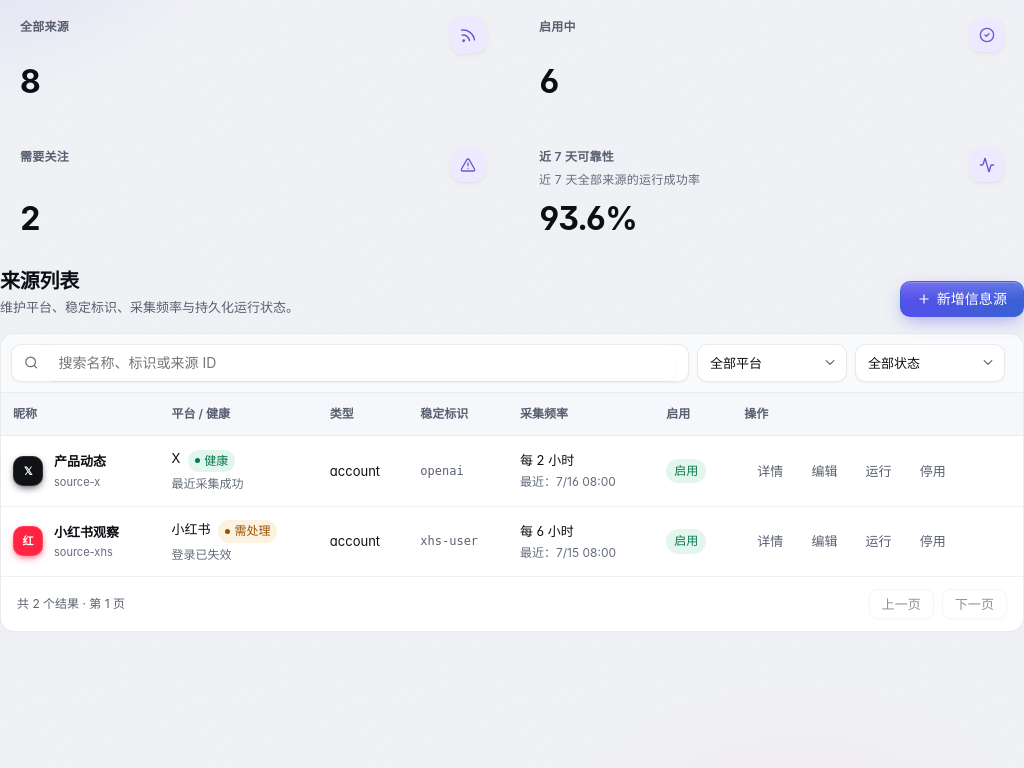
Test case: SourceManagementModule › edits mutable fields only and displays version effectiveness and initial-fetch result
Expected: the text "产品动态" is shown, [54, 451, 106, 472]
Click the button with aria-label "编辑 产品动态" at {"x": 824, "y": 471}, box [798, 456, 850, 486]
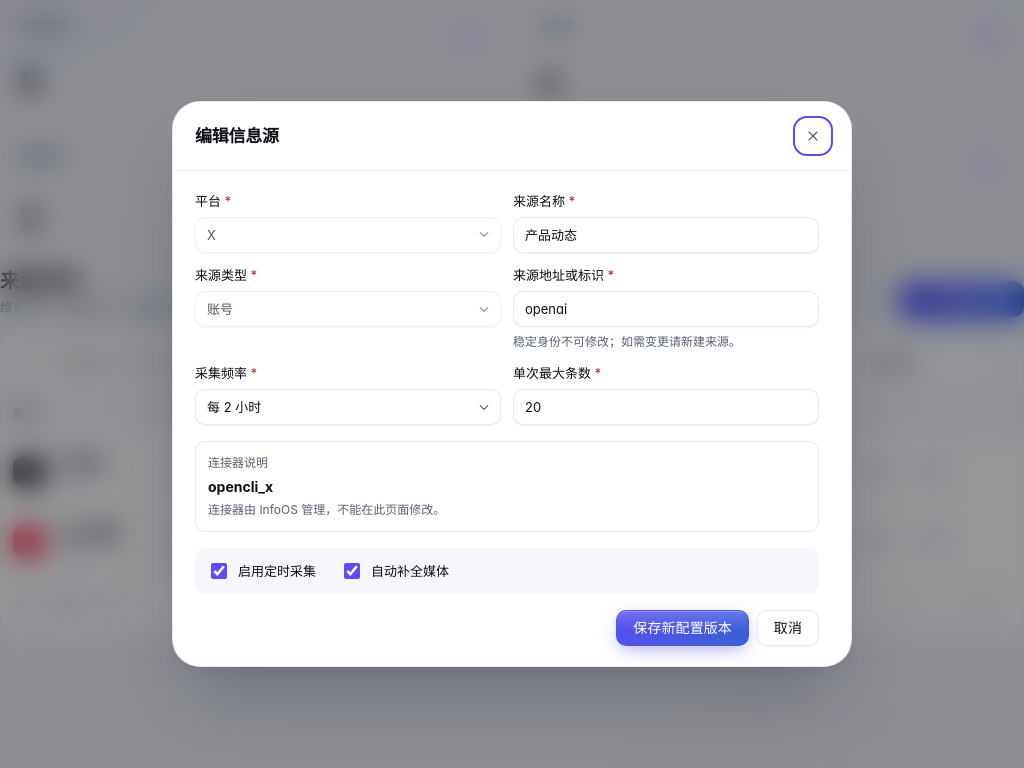
Now the dropdown labelled "平台" is disabled, box [195, 217, 501, 253]
Now the dropdown labelled "来源类型" is disabled, box [195, 291, 501, 327]
Now the field labelled "来源地址或标识" is disabled, box [513, 291, 819, 327]
Replace the text in the number field labelled "单次最大条数" with "25" at {"x": 666, "y": 407}, box [513, 389, 819, 425]
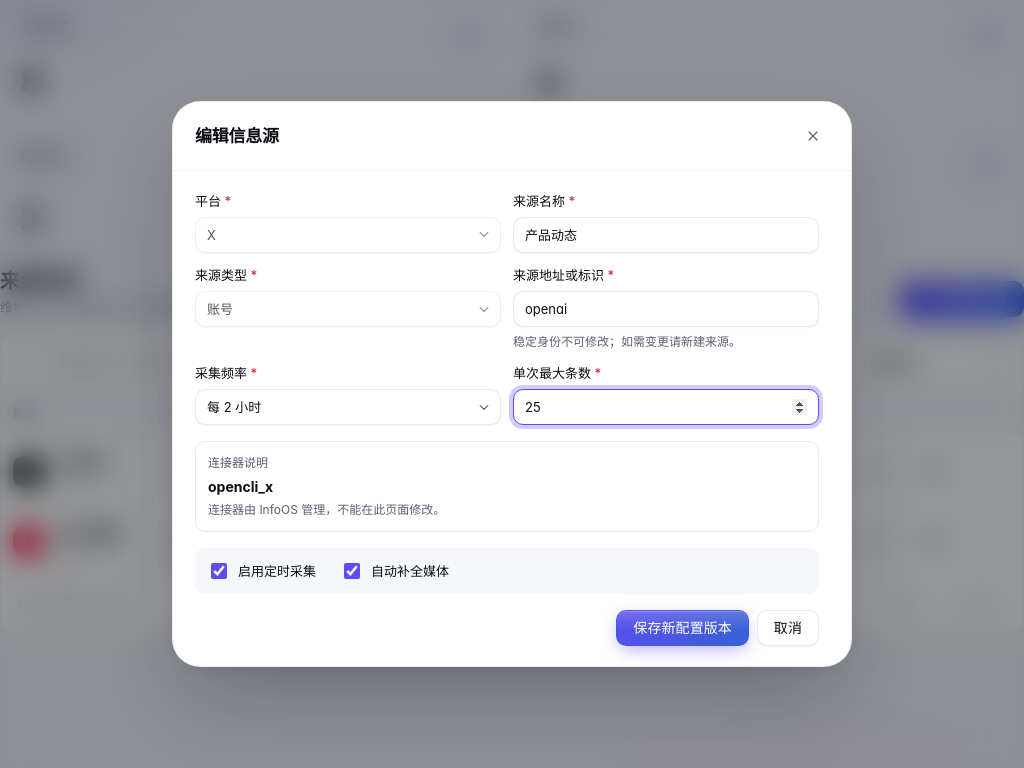
Click the button "保存新配置版本" at {"x": 683, "y": 628}, box [616, 610, 749, 646]
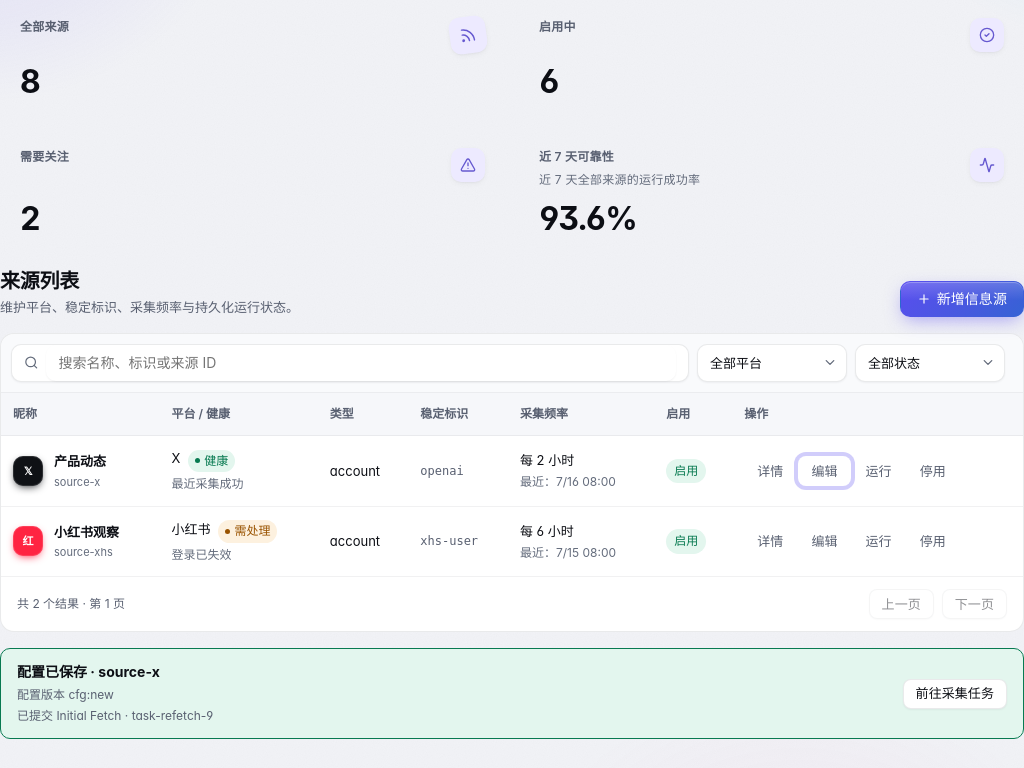
Now the text "配置版本 cfg:new" is shown, box [17, 687, 114, 702]
Now the text "已提交 Initial Fetch · task-refetch-9" is shown, box [17, 707, 213, 726]
